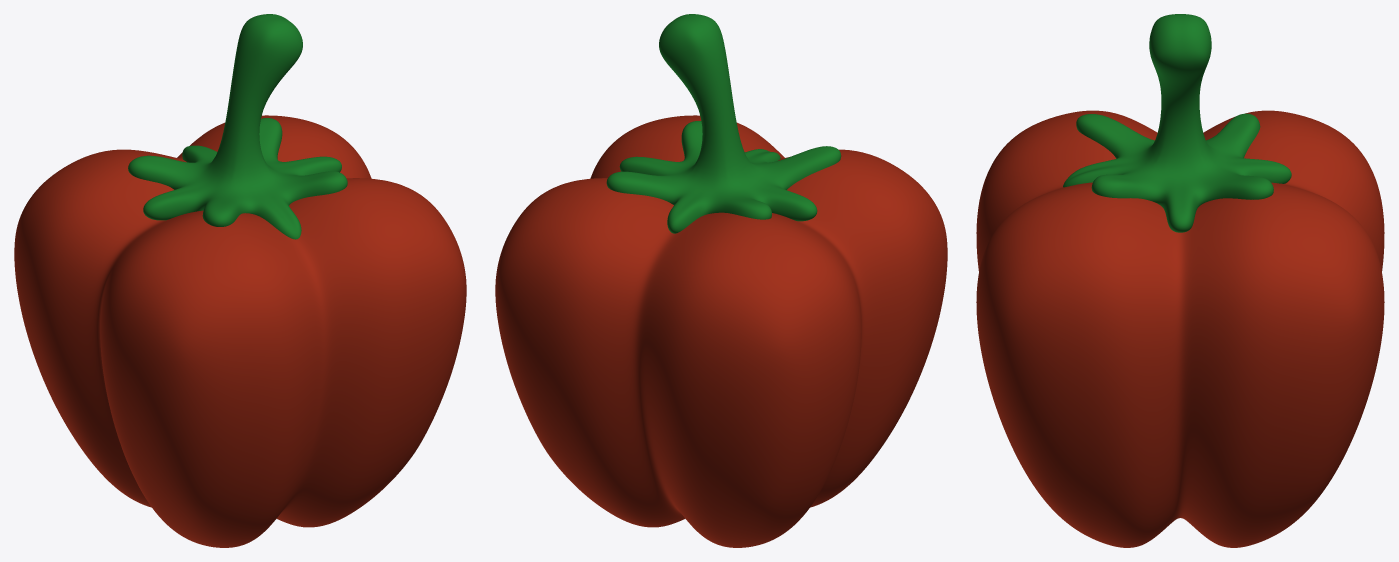
The model's file is red paprika.fbx.
3 renders of one model, left to right at view 1: azimuth 30°, elevation 25°; view 2: azimuth 150°, elevation 25°; view 3: azimuth 270°, elevation 25°, orthographic. The views are drawn at different scales.
Visible parts, largest first — view 1: Cube, Cube.002; view 2: Cube, Cube.002; view 3: Cube, Cube.002.
Boxes of the visible parts, x1=… form: Cube: x1=14, y1=115, x2=466, y2=547; Cube.002: x1=128, y1=14, x2=347, y2=239; Cube: x1=495, y1=115, x2=947, y2=547; Cube.002: x1=606, y1=14, x2=841, y2=233; Cube: x1=976, y1=110, x2=1384, y2=547; Cube.002: x1=1063, y1=14, x2=1291, y2=232.
Size of the model in its own units: 151 by 212 by 151.
